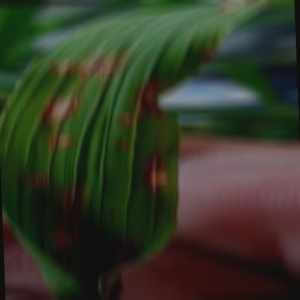Brown_Spot: (33, 90, 84, 140), (98, 232, 141, 289), (132, 72, 179, 122), (71, 51, 130, 86), (137, 145, 175, 199), (61, 177, 96, 218), (46, 43, 77, 86), (45, 221, 82, 256), (44, 125, 83, 152), (19, 164, 53, 191), (214, 0, 255, 20), (192, 33, 218, 64), (103, 135, 133, 158), (115, 111, 137, 127)
